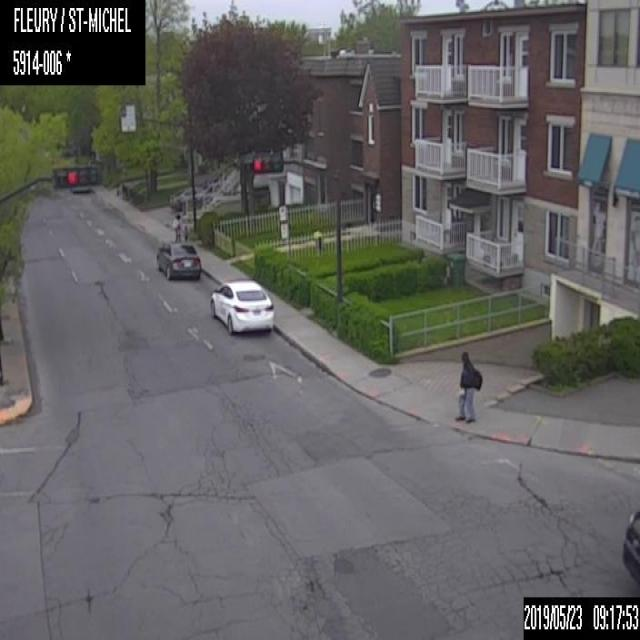pedestrian: (453, 349, 482, 423), (171, 210, 182, 242)
vehicle: (208, 276, 276, 335), (154, 240, 202, 281), (619, 508, 639, 587)
